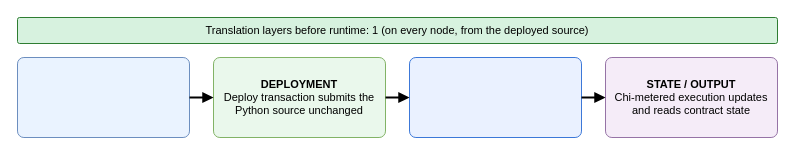
The diagram is 795 pixels wide and 155 high, and some of its shapes have lost their labels. The centre of each missing label's shape, as x and y in pixels:
"RUNTIME Every node compiles it once; the Xian VM runs it deterministically" belongs at (495,97).
"SOURCE Python contract source" belongs at (103,97).
